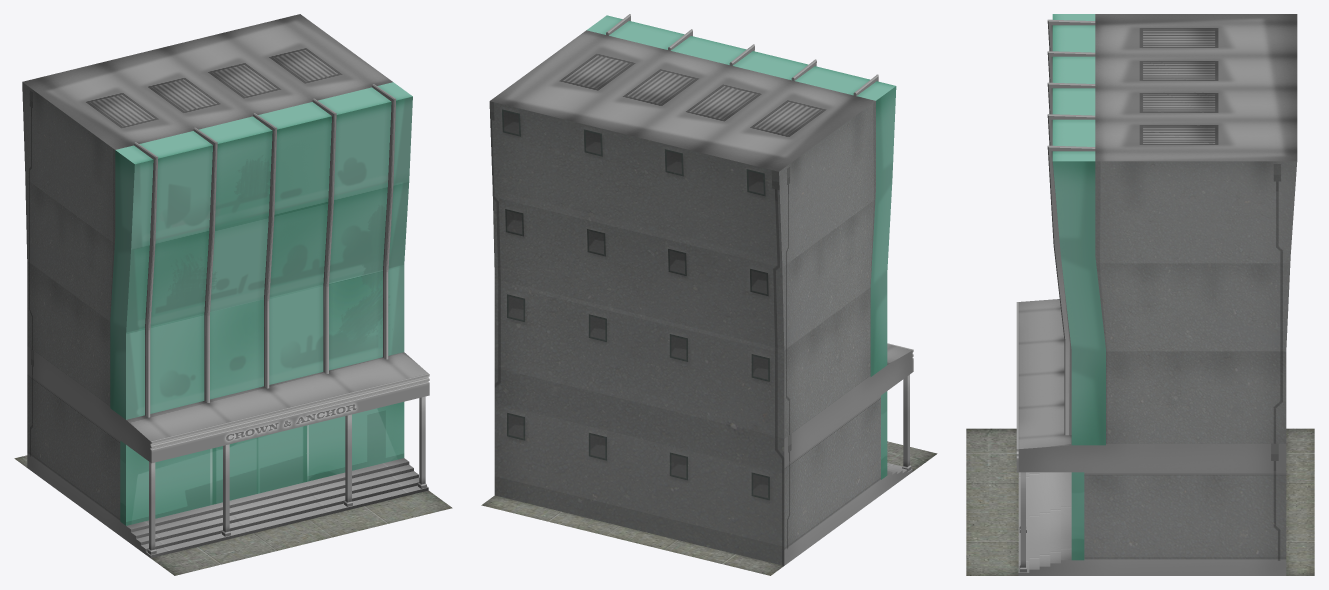
The model's file is Office A.fbx.
3 renders of one model, left to right at view 1: azimuth 30°, elevation 25°; view 2: azimuth 150°, elevation 25°; view 3: azimuth 270°, elevation 25°, orthographic. The views are drawn at different scales.
Parts seen in each view (by area): view 1: office_A; view 2: office_A; view 3: office_A.
Boxes of the visible parts, <box> form: office_A: <box>14,14,452,575</box>; office_A: <box>481,14,937,575</box>; office_A: <box>966,14,1314,575</box>.
Size of the model in its own units: 10 by 13.29 by 10.
1 material, 1 textured.
